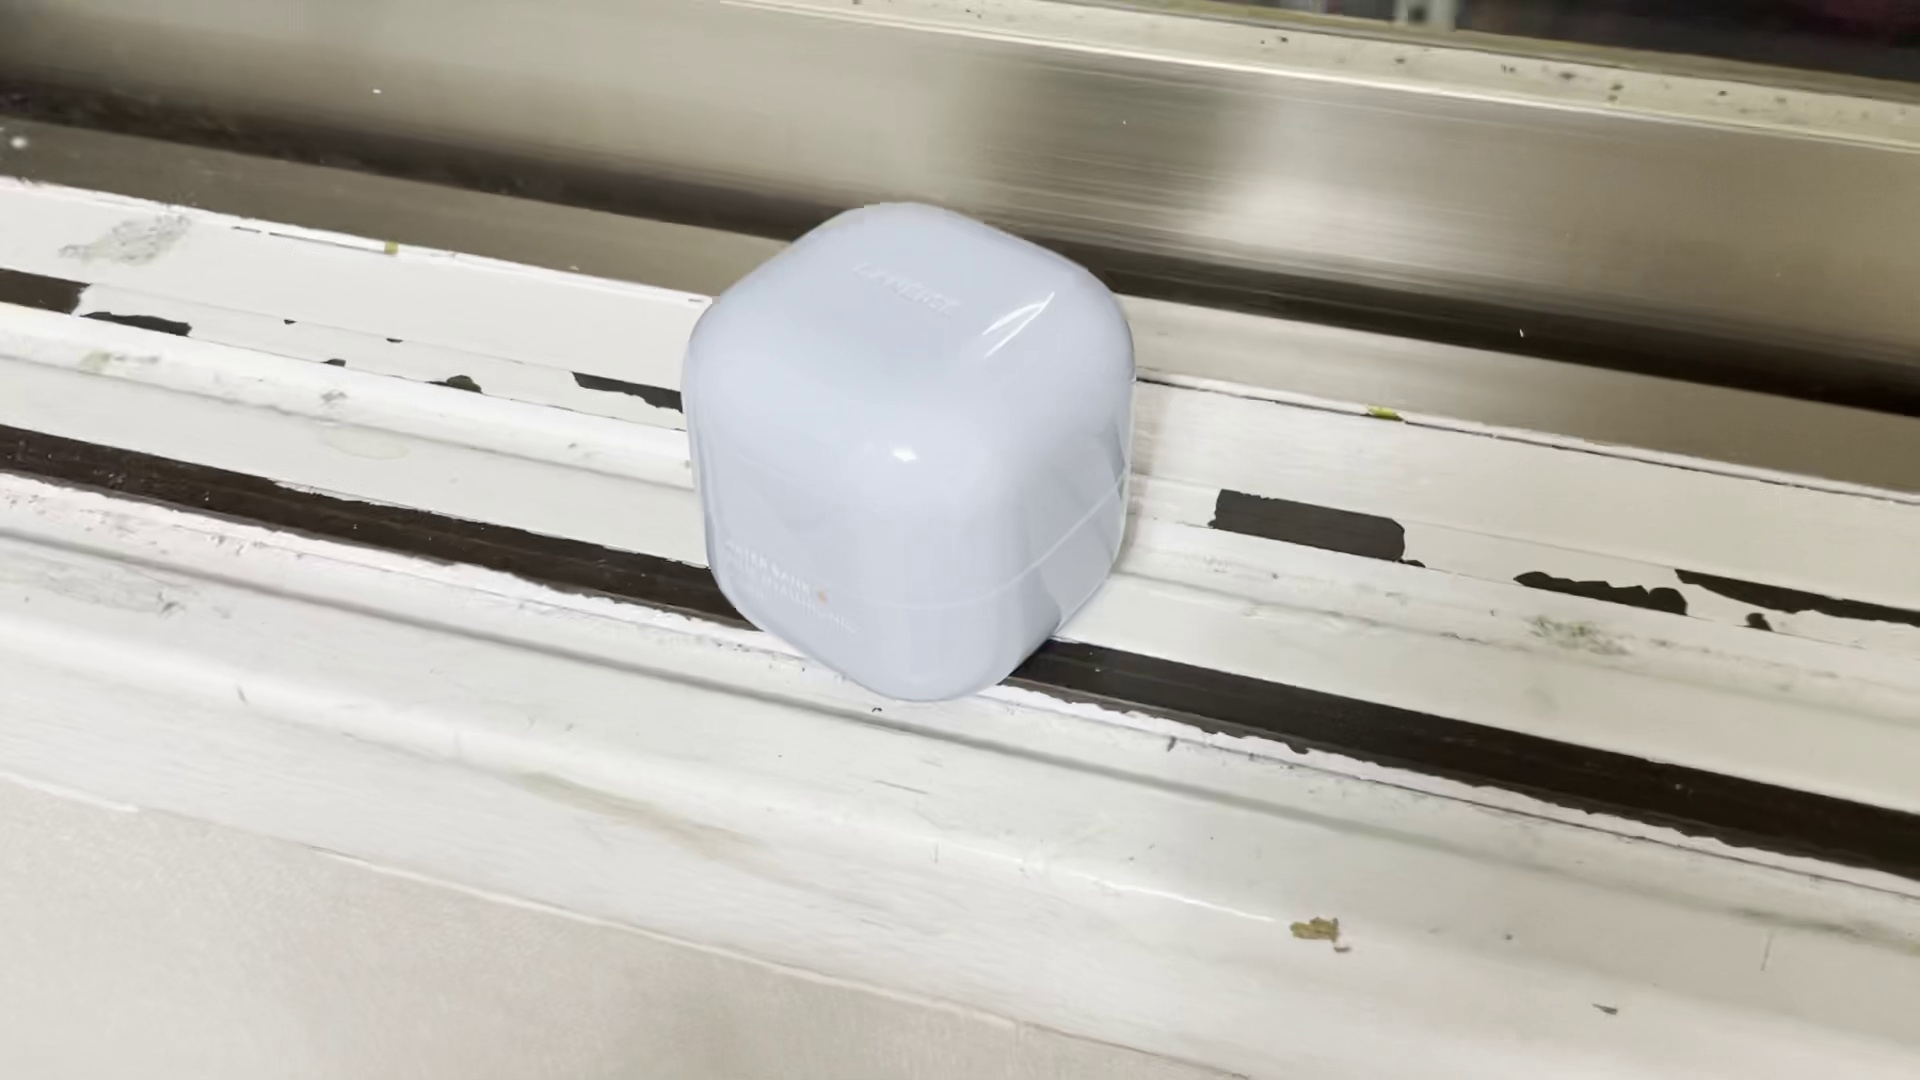cream: (688, 200, 1134, 703)
